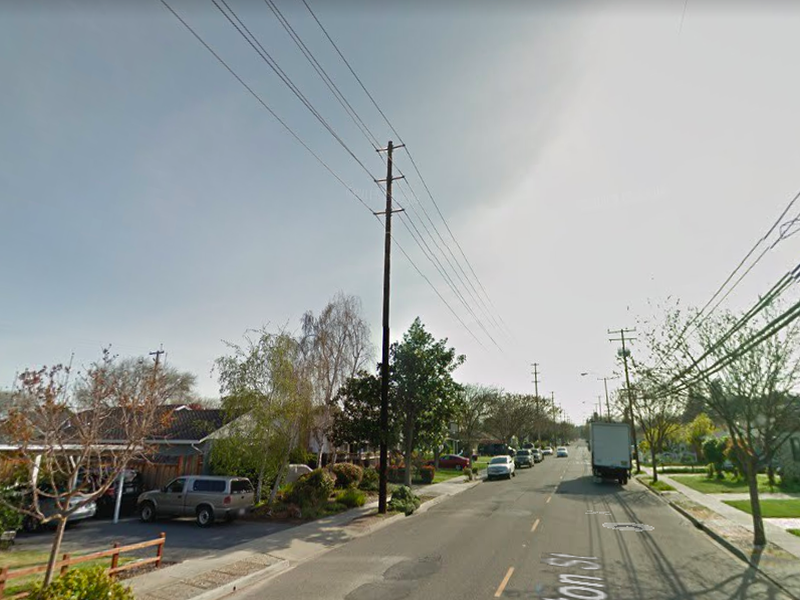utility_pole: (360, 131, 414, 226)
